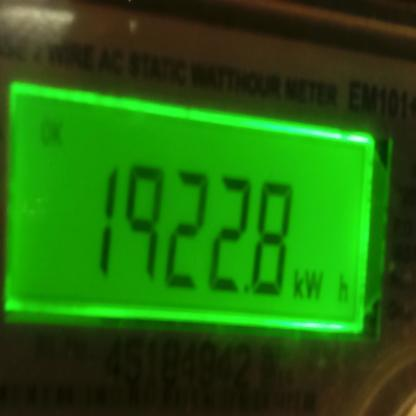.: (290, 267, 356, 307)
0: (240, 281, 256, 298)
2: (94, 159, 121, 280)
3: (163, 165, 207, 292)
4: (211, 171, 252, 293)
9: (254, 175, 294, 296)
:: (126, 161, 159, 281)
